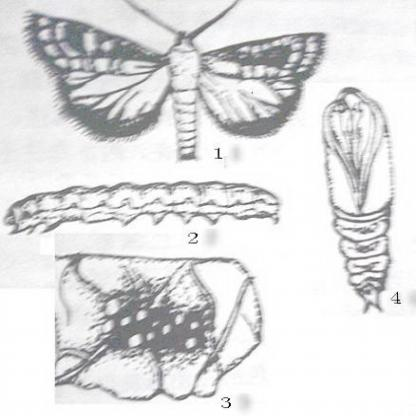armyworm: (15, 2, 326, 156), (318, 86, 392, 314), (2, 178, 281, 234), (103, 285, 205, 355)
